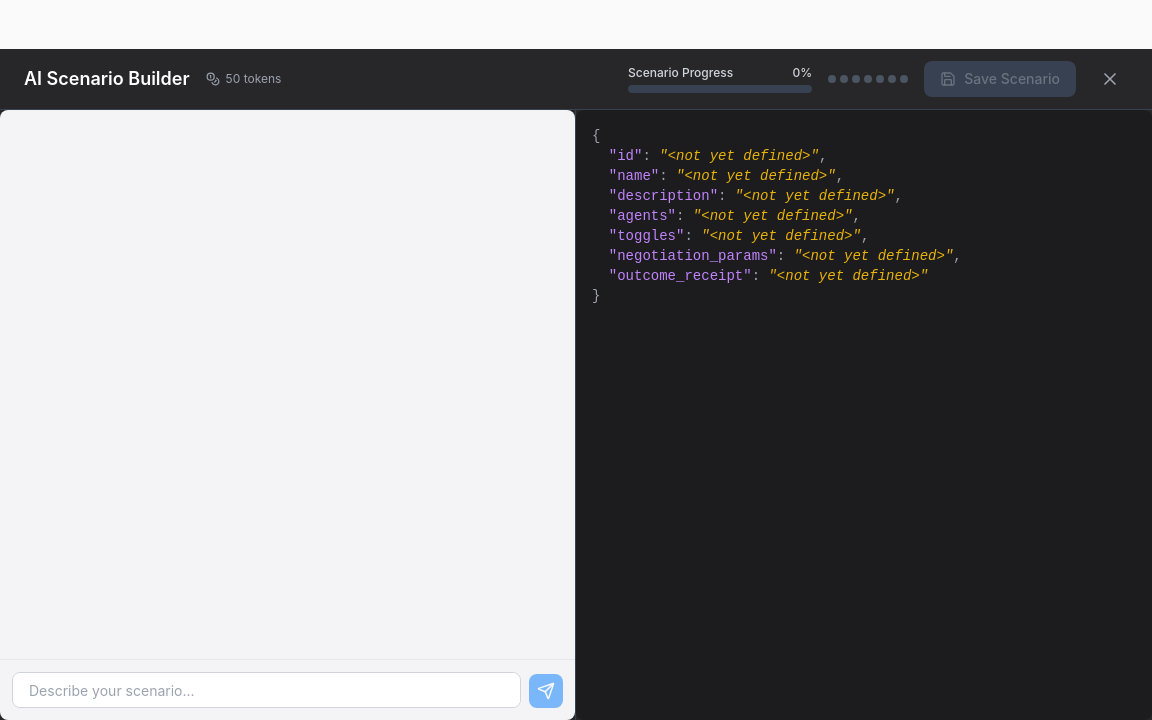
Test case: BuilderModal close confirmation › shows confirmation dialog when closing with JSON progress
Type "Create scenario" into the text box with test id "chat-input" at (266, 690), box [12, 672, 521, 708]
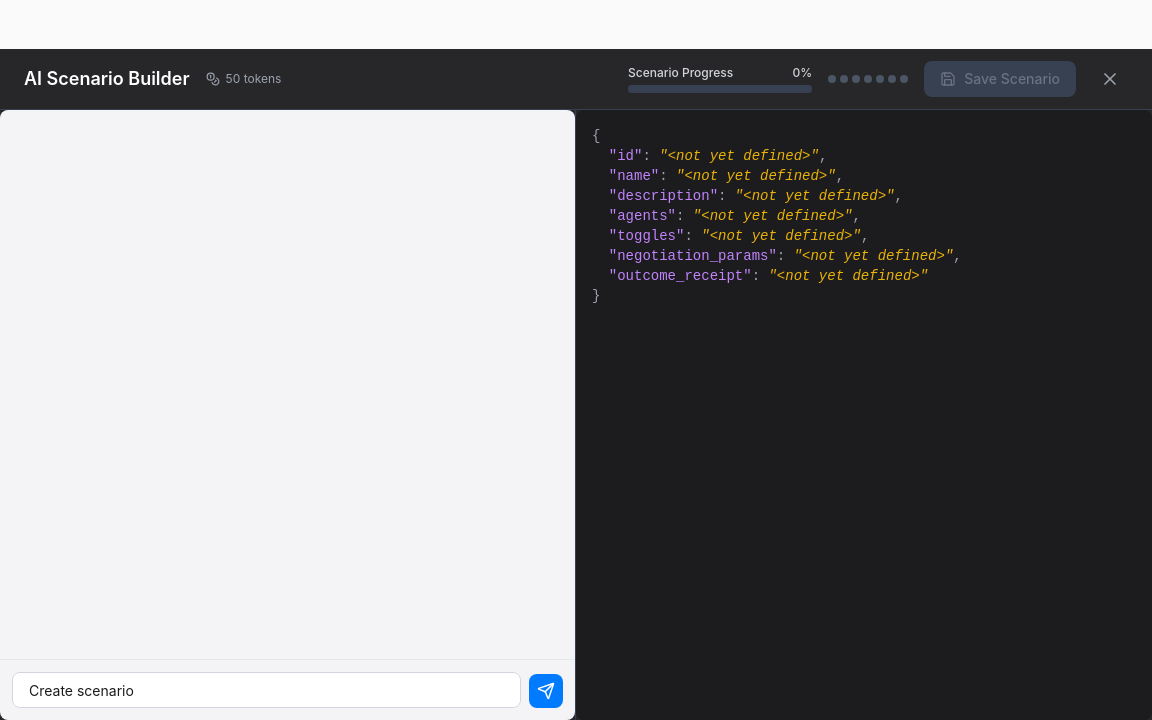
Click the button with test id "send-button" at (546, 691), box [529, 674, 563, 708]
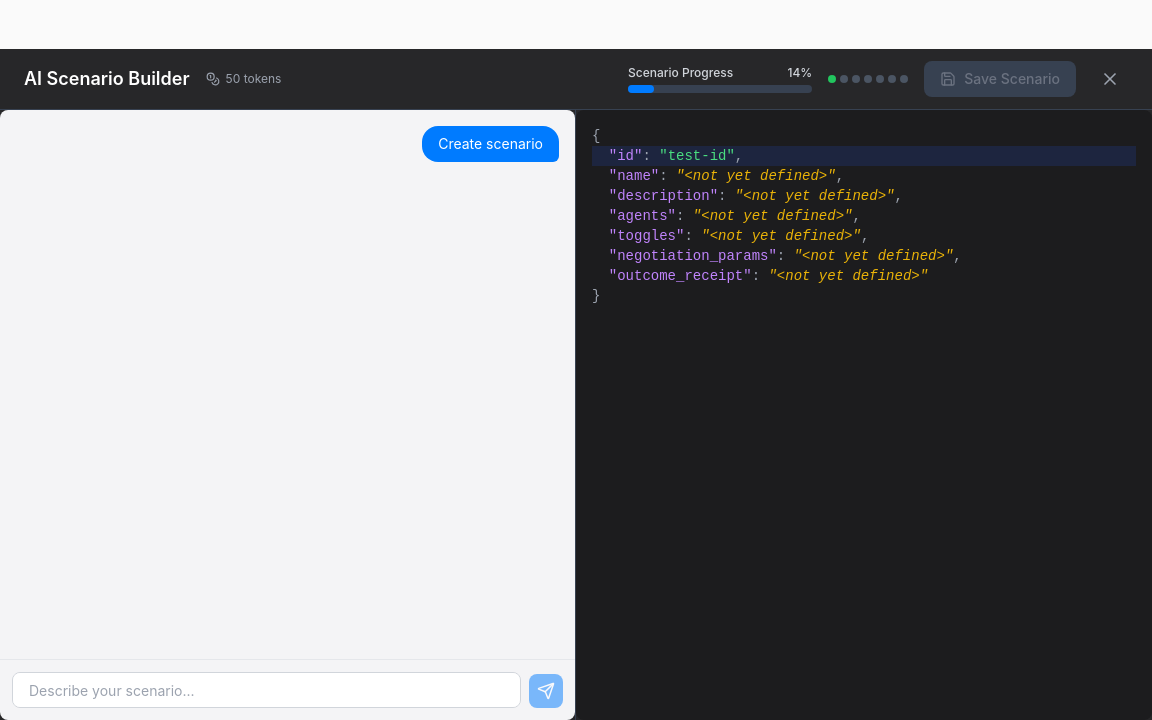
Click the button with test id "close-button" at (1110, 79), box [1092, 61, 1128, 97]
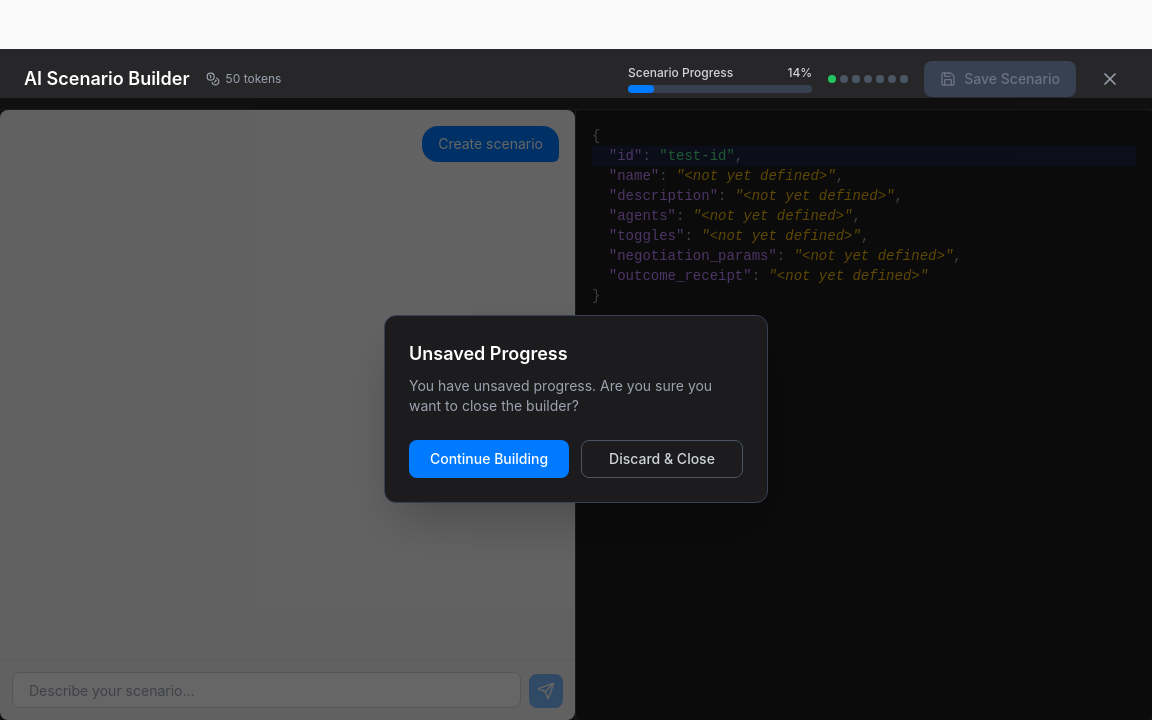
Expected: the element with test id "confirm-close-dialog" is shown
